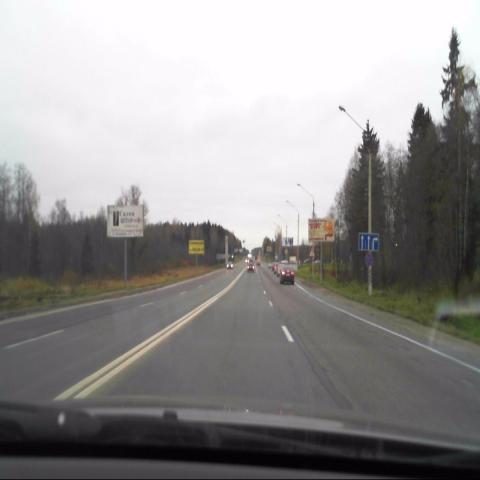3_27: (364, 252, 372, 265)
5_15_1: (358, 233, 378, 251)
